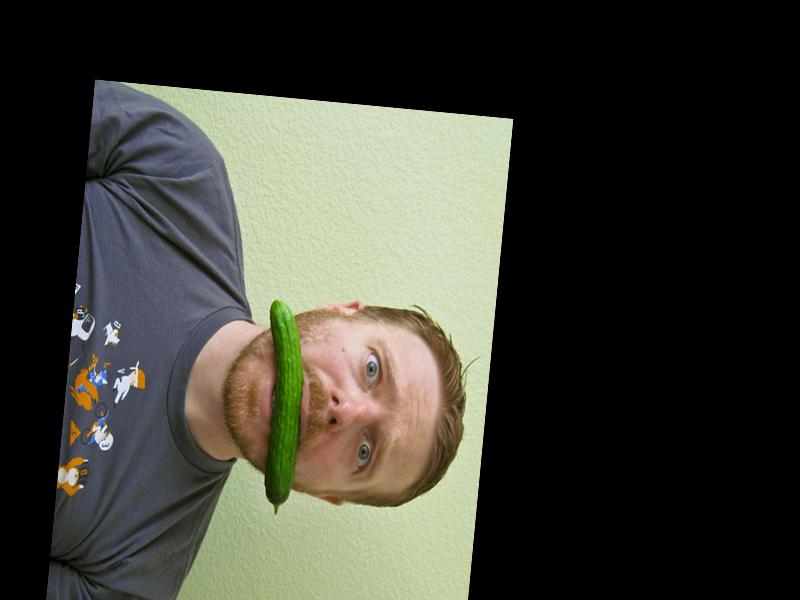Cucumber: (250, 297, 311, 516)
